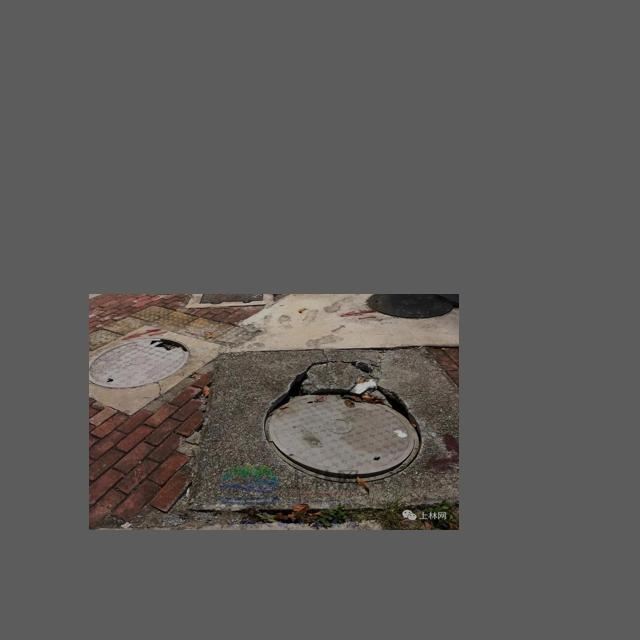circle: (182, 341, 457, 511)
